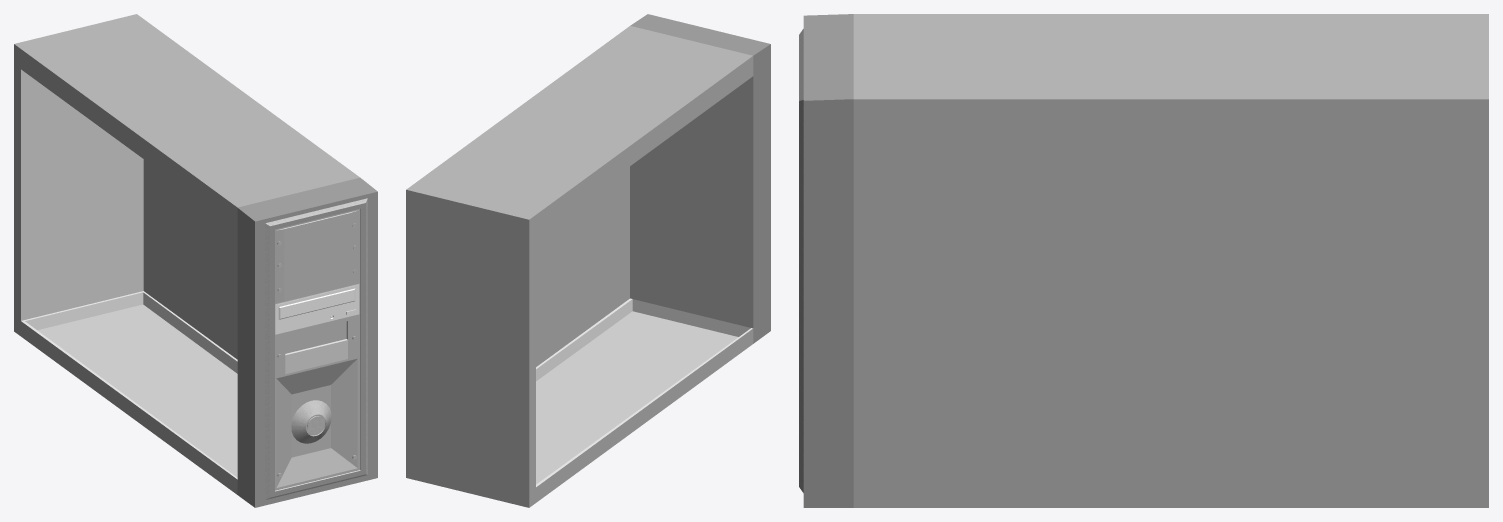
The model's file is caseaberto.fbx.
The picture shows the model from 3 angles, left to right: view 1: azimuth 30°, elevation 25°; view 2: azimuth 150°, elevation 25°; view 3: azimuth 270°, elevation 25°; orthographic projection. The views are drawn at different scales.
Visible parts, largest first — view 1: Gabinete_de_PC__vers_o_1_1; view 2: Gabinete_de_PC__vers_o_1_1; view 3: Gabinete_de_PC__vers_o_1_1.
Boxes of the visible parts, box(x1,y1,x2,y2) form: Gabinete_de_PC__vers_o_1_1: box(14, 14, 377, 507); Gabinete_de_PC__vers_o_1_1: box(406, 14, 770, 507); Gabinete_de_PC__vers_o_1_1: box(799, 14, 1488, 507).
Bounding box in the file's own units: 7.97 × 17.82 × 27.26.
6 materials, 1 textured.
